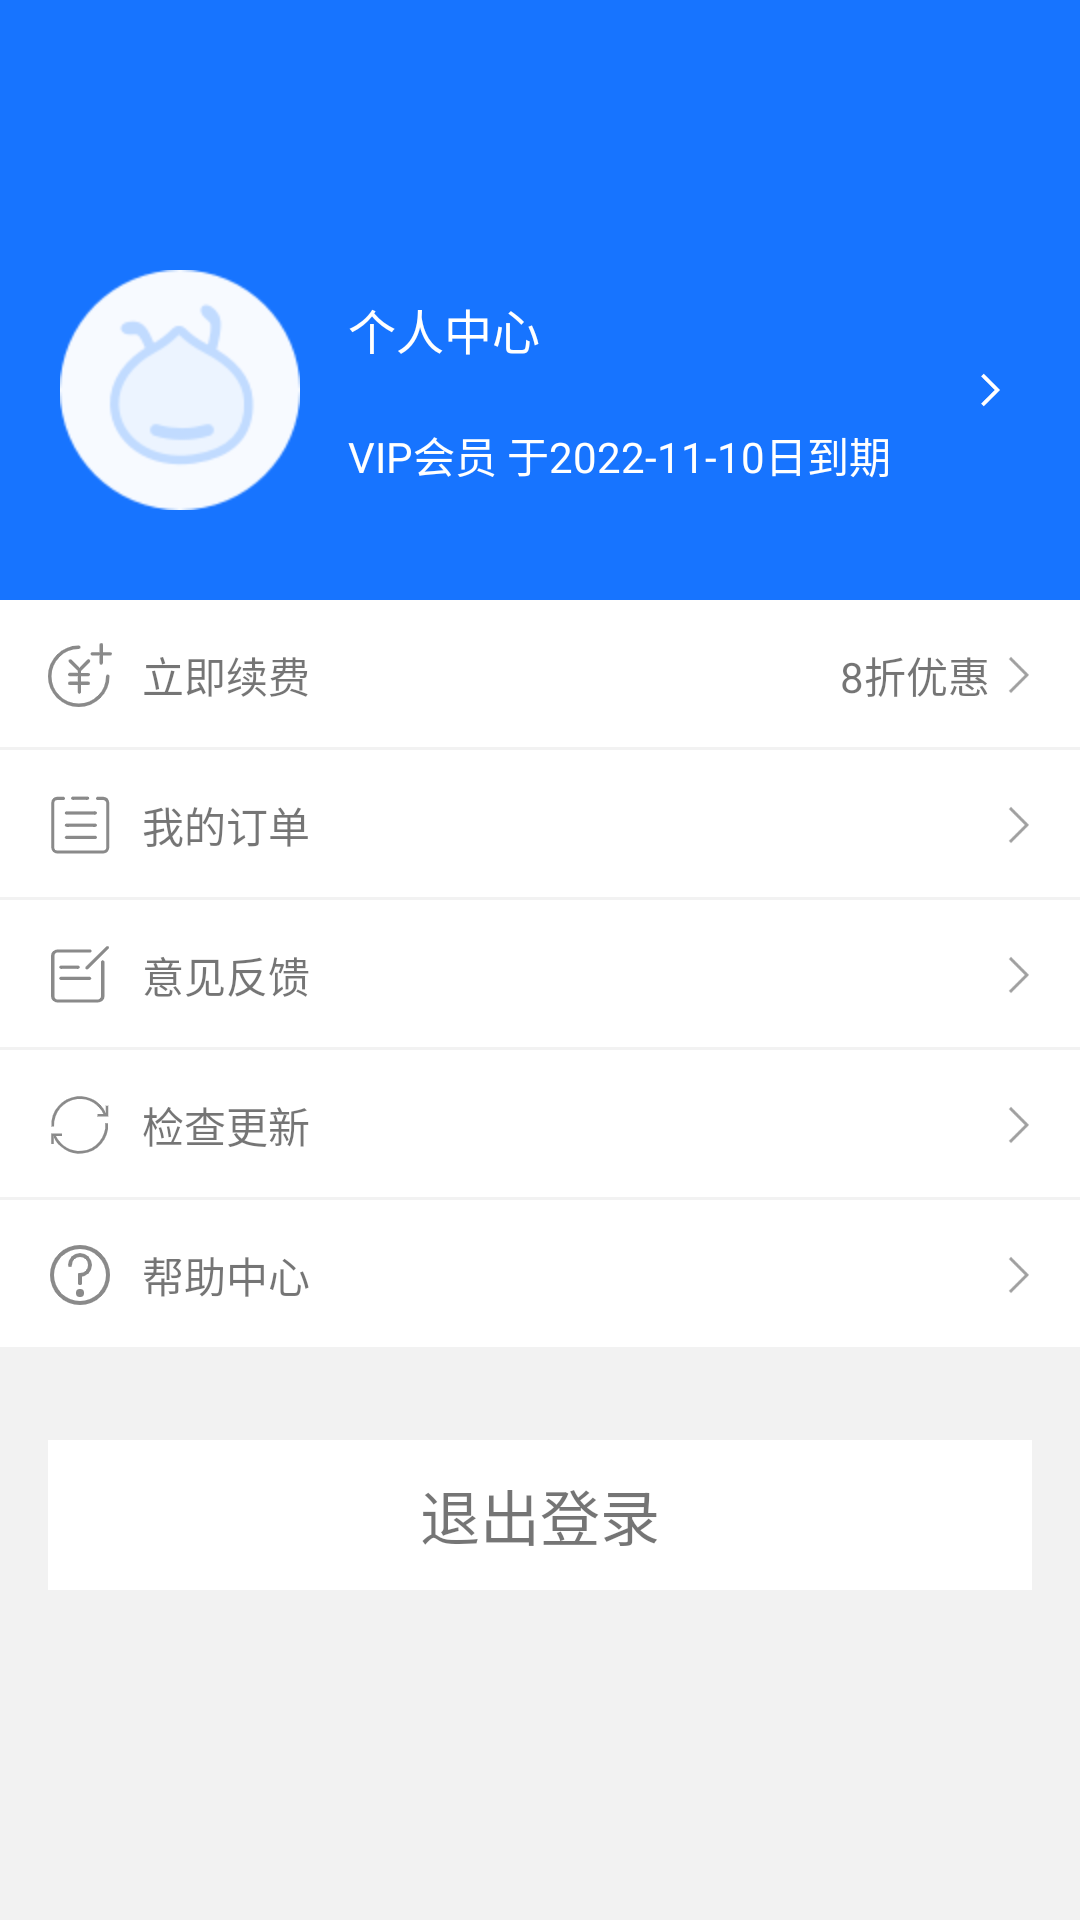

Where to tap for icons on this 1080 x 1920 app screen, as [x,y]:
headicon: [180,390]
